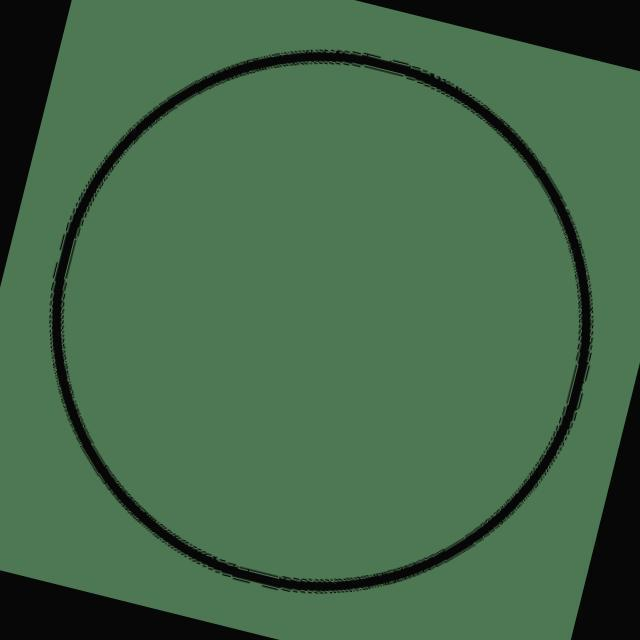Circle: (45, 45, 600, 598)
